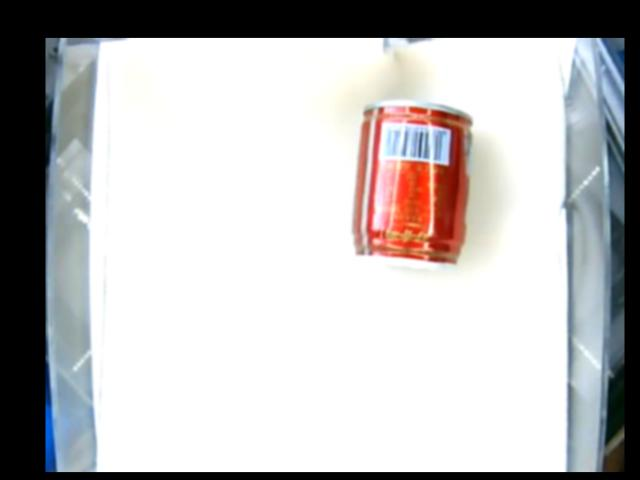Bottle: (352, 102, 473, 270)
